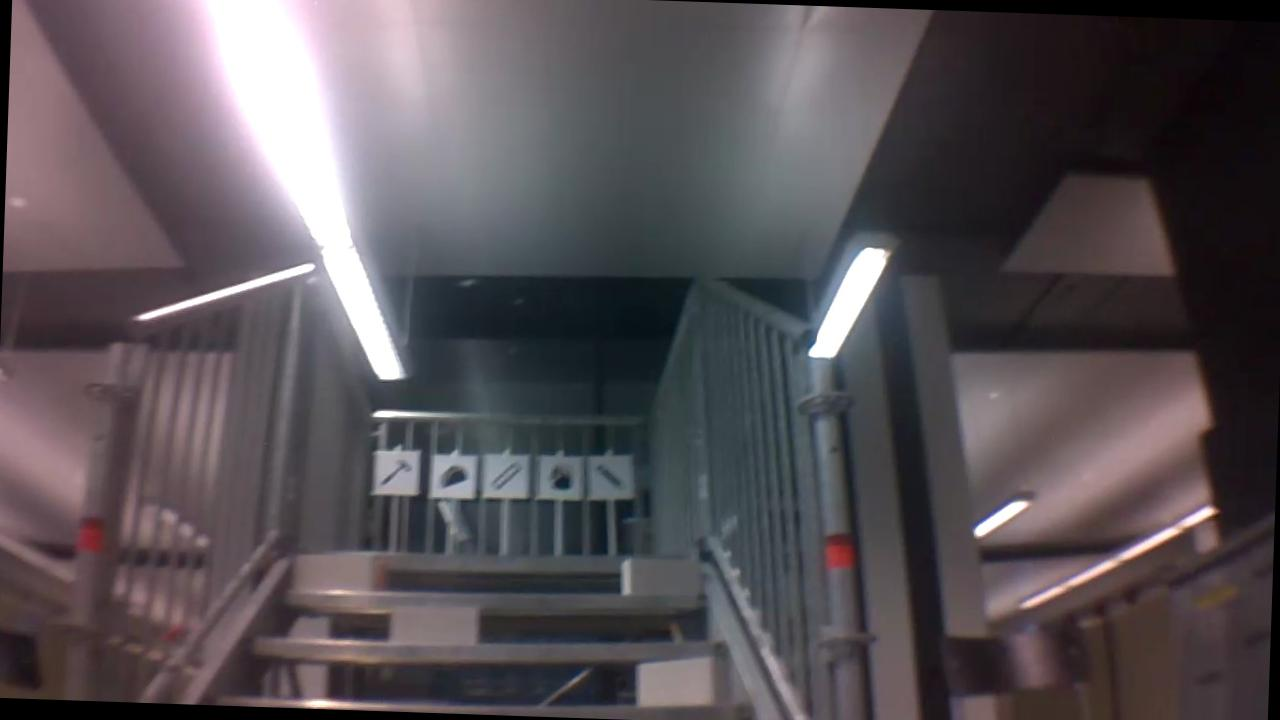brick: (635, 656, 728, 704), (391, 602, 478, 643), (292, 551, 385, 588), (621, 557, 698, 593)
bucket: (545, 459, 575, 493)
edge: (246, 625, 739, 669), (280, 579, 705, 618), (293, 543, 706, 578)
hammer: (377, 456, 415, 489)
pencil: (590, 460, 626, 493)
ruler: (483, 457, 523, 492)
stairs: (63, 256, 888, 720)
taco: (432, 461, 471, 492)
